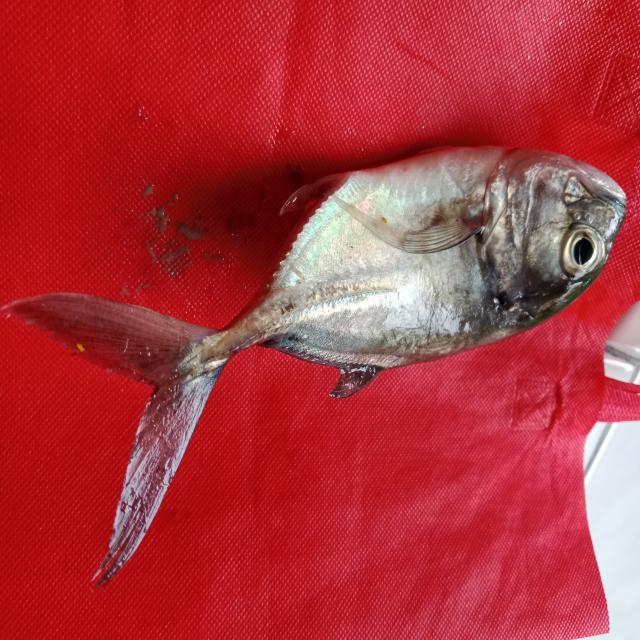ikan: (22, 131, 629, 574)
